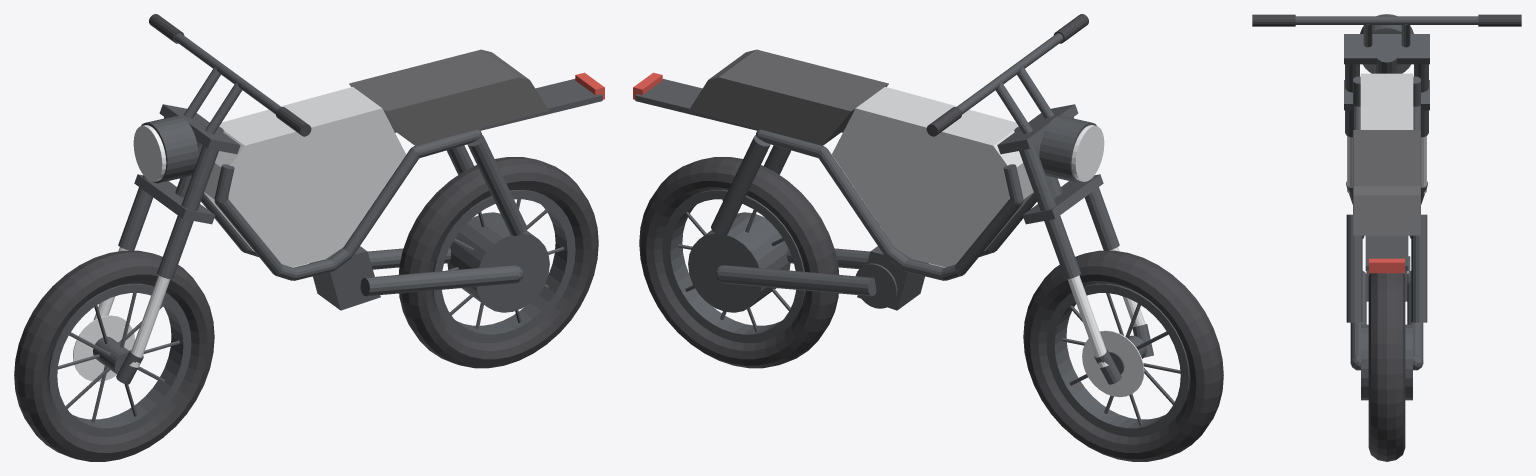
Rendered from onyx-rcr.glb.
The picture shows the model from 3 angles, left to right: view 1: azimuth 30°, elevation 25°; view 2: azimuth 150°, elevation 25°; view 3: azimuth 270°, elevation 25°; orthographic projection. The views are drawn at different scales.
Parts seen in each view (by area): view 1: black, tire, alu, seat, chrome, lens; view 2: black, tire, alu, seat, chrome, lens; view 3: black, tire, seat, alu, chrome, red.
Boxes of the visible parts, bbox=[...] form: black: bbox=[48, 33, 602, 436]; tire: bbox=[14, 14, 598, 461]; alu: bbox=[204, 87, 405, 267]; seat: bbox=[349, 49, 548, 145]; chrome: bbox=[73, 247, 170, 381]; lens: bbox=[133, 125, 166, 181]; black: bbox=[635, 33, 1189, 436]; tire: bbox=[639, 14, 1223, 461]; alu: bbox=[832, 87, 1033, 267]; seat: bbox=[689, 49, 888, 145]; chrome: bbox=[1067, 247, 1145, 397]; lens: bbox=[1071, 125, 1104, 181]; black: bbox=[1295, 14, 1478, 400]; tire: bbox=[1252, 14, 1521, 461]; seat: bbox=[1353, 130, 1420, 235]; alu: bbox=[1360, 73, 1413, 129]; chrome: bbox=[1347, 136, 1426, 193]; red: bbox=[1369, 258, 1404, 273].
Size of the model in its own units: 1.72 by 1.03 by 0.78.
